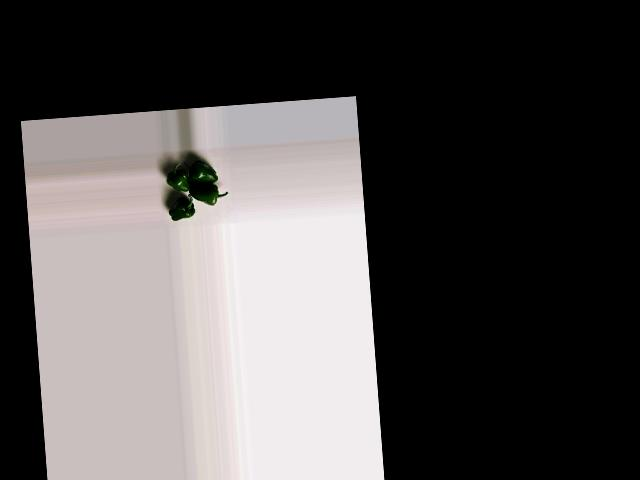bell_pepper: (165, 163, 188, 194)
